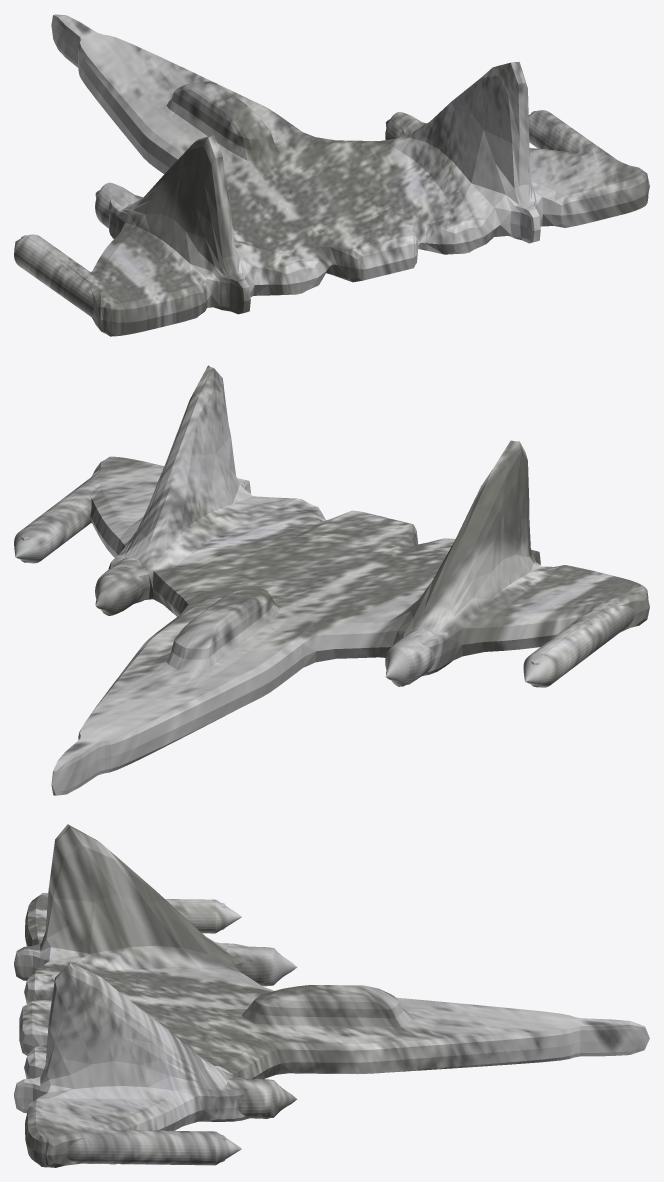
Rendered from nave_pronta_gabriel3.obj.
3 renders of one model, top to bottom at view 1: azimuth 30°, elevation 25°; view 2: azimuth 150°, elevation 25°; view 3: azimuth 270°, elevation 25°, orthographic. The views are drawn at different scales.
Visible parts, largest first — view 1: Mesh_Mesh_Mesh_ShapeIndexedFaceSet.000; view 2: Mesh_Mesh_Mesh_ShapeIndexedFaceSet.000; view 3: Mesh_Mesh_Mesh_ShapeIndexedFaceSet.000.
Part boxes in pixels (x1,y1,x2,y2): Mesh_Mesh_Mesh_ShapeIndexedFaceSet.000: (14,14,649,336); Mesh_Mesh_Mesh_ShapeIndexedFaceSet.000: (14,365,649,795); Mesh_Mesh_Mesh_ShapeIndexedFaceSet.000: (14,824,649,1167).
Bounding box in the file's own units: 3.91 × 1.15 × 4.2.
Materials: 1 (1 with a texture image).
